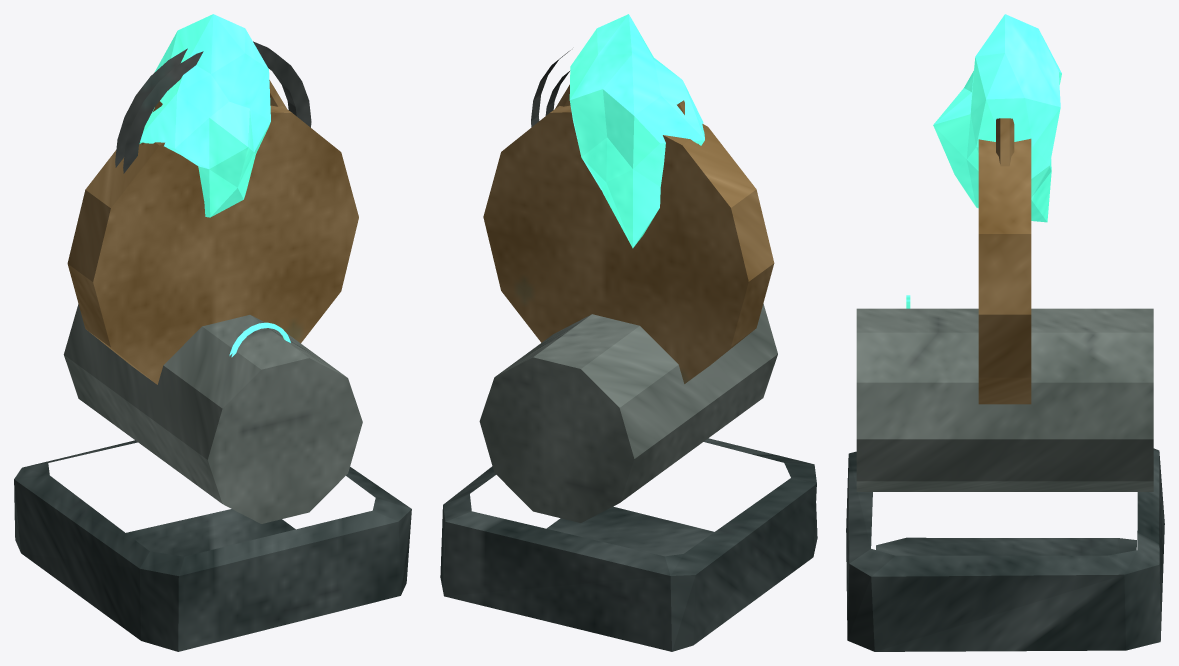
File: 0583_relic_pedestal_08.glb
3 views of the same model, side by side, from view 1: azimuth 30°, elevation 25°; view 2: azimuth 150°, elevation 25°; view 3: azimuth 270°, elevation 25° (orthographic). The views are drawn at different scales.
Visible parts, largest first — view 1: brass, stone_dark, stone, glow, iron; view 2: brass, stone_dark, stone, glow, iron; view 3: stone, stone_dark, brass, glow.
Boxes of the visible parts, bbox=[...] form: brass: bbox=[67, 80, 358, 384]; stone_dark: bbox=[14, 440, 411, 651]; stone: bbox=[63, 304, 362, 523]; glow: bbox=[139, 14, 290, 357]; iron: bbox=[115, 41, 311, 173]; brass: bbox=[483, 84, 774, 383]; stone_dark: bbox=[440, 438, 817, 651]; stone: bbox=[479, 303, 777, 522]; glow: bbox=[569, 14, 704, 248]; iron: bbox=[531, 50, 570, 127]; stone: bbox=[856, 308, 1153, 491]; stone_dark: bbox=[846, 448, 1164, 651]; brass: bbox=[978, 118, 1031, 404]; glow: bbox=[906, 14, 1061, 308].
Size of the model in its own units: 0.9633 by 1.94 by 0.9655.
5 materials, 5 textured.
